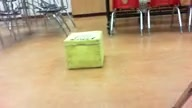cube: (64, 31, 103, 70)
